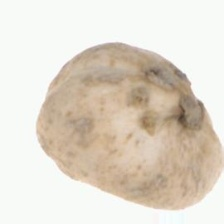L1: (33, 120, 79, 181), (170, 69, 207, 129)
L2: (35, 41, 224, 212)
